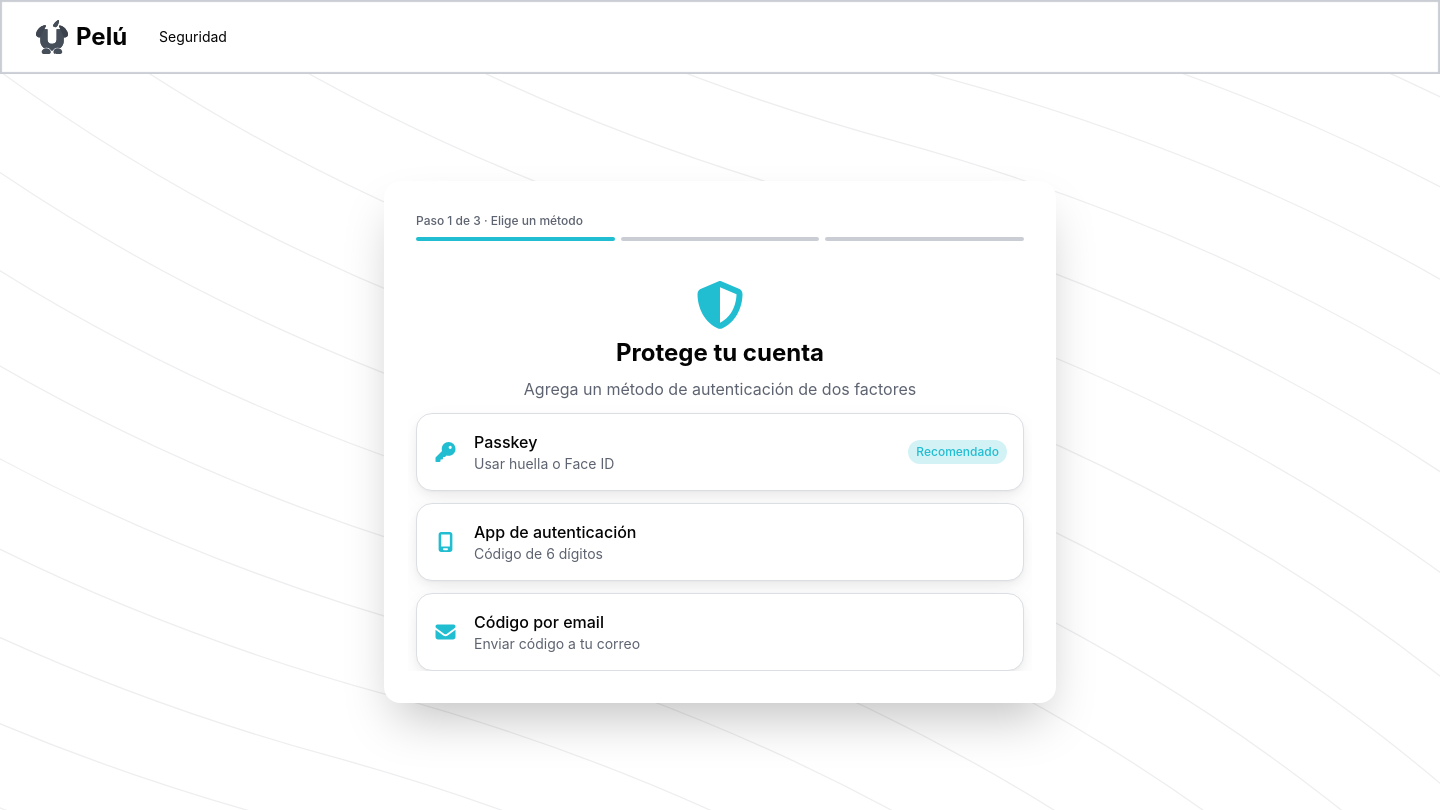
Test: MfaEnrollment — the method is confirmed out loud › confirms the method before showing the recovery codes
Click the button "Código por email Enviar código a tu correo" at {"x": 539, "y": 622}, box [416,593,1024,671]
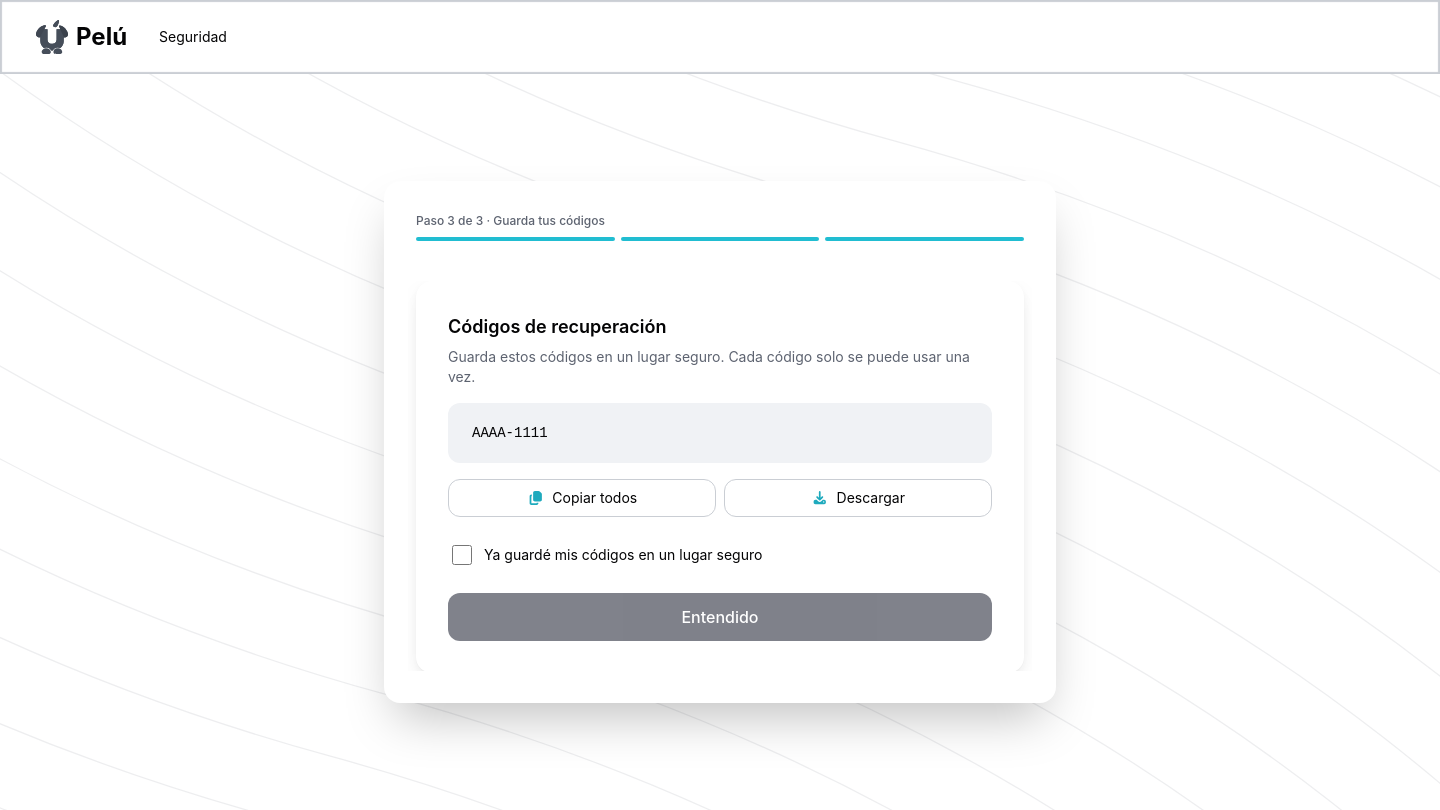
Expected: the text "AAAA-1111" is shown, [472,425,548,441]
